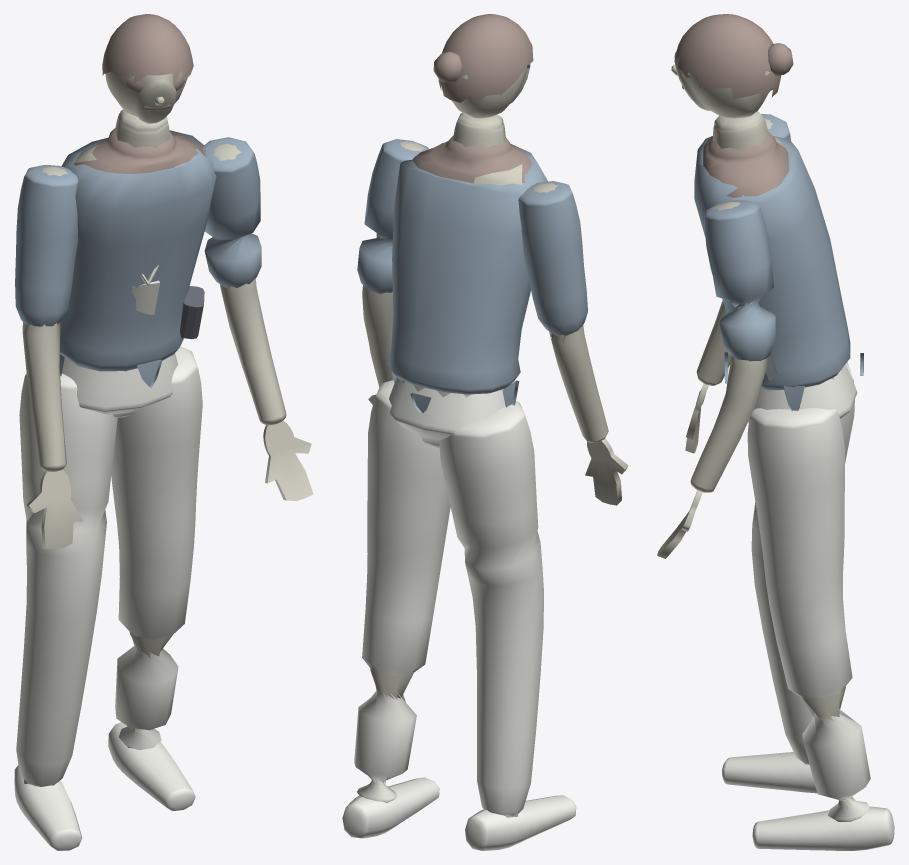
Rendered from undead-horde-and-infected-variants-walker-ward-nurse-8d019476__11980.glb.
3 renders of one model, left to right at view 1: azimuth 30°, elevation 25°; view 2: azimuth 150°, elevation 25°; view 3: azimuth 270°, elevation 25°, orthographic. The views are drawn at different scales.
Visible parts, largest first — view 1: walker-ward-nurse; view 2: walker-ward-nurse; view 3: walker-ward-nurse.
Boxes of the visible parts, x1,y1,x2,y2 form: walker-ward-nurse: (14,14,313,850); walker-ward-nurse: (342,14,628,850); walker-ward-nurse: (657,14,894,850).
Bounding box in the file's own units: 0.5858 × 1.65 × 0.4411.
